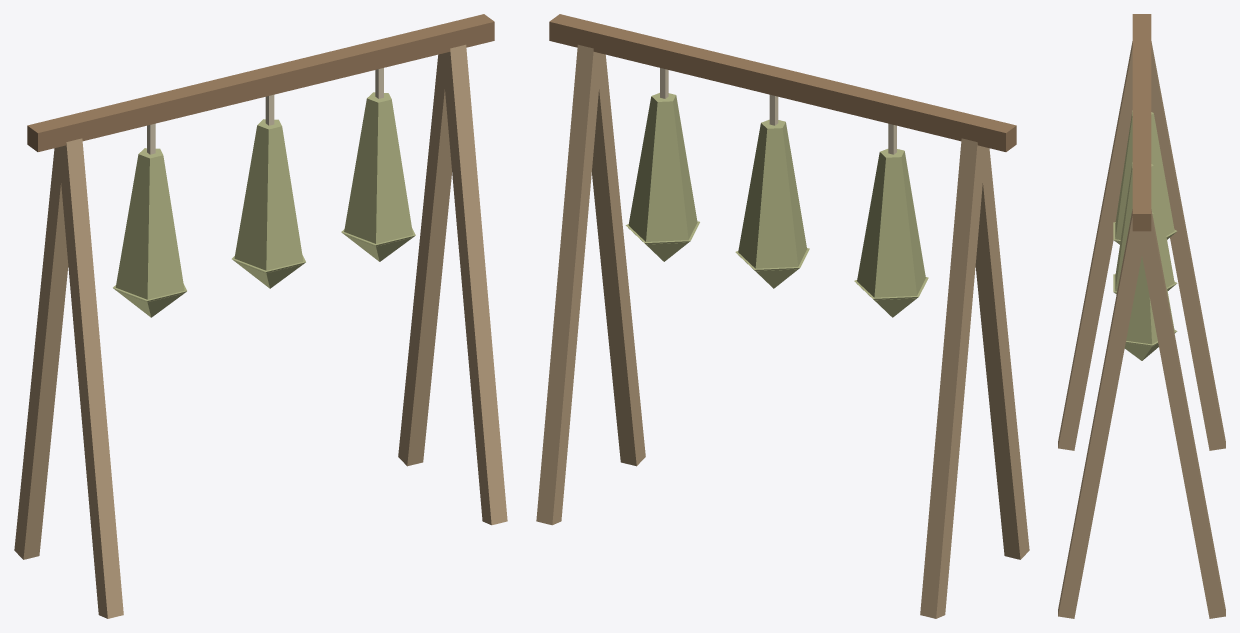
The model's file is prop-drying-herb-pole.fbx.
3 views of the same model, side by side, from view 1: azimuth 30°, elevation 25°; view 2: azimuth 150°, elevation 25°; view 3: azimuth 270°, elevation 25° (orthographic). The views are drawn at different scales.
Visible parts, largest first — view 1: prop-drying-herb-pole; view 2: prop-drying-herb-pole; view 3: prop-drying-herb-pole.
Part boxes in pixels (x1,y1,x2,y2): prop-drying-herb-pole: (14, 14, 507, 618); prop-drying-herb-pole: (536, 14, 1029, 618); prop-drying-herb-pole: (1058, 14, 1225, 618).
Bounding box in the file's own units: 100 × 97.29 × 35.45.
